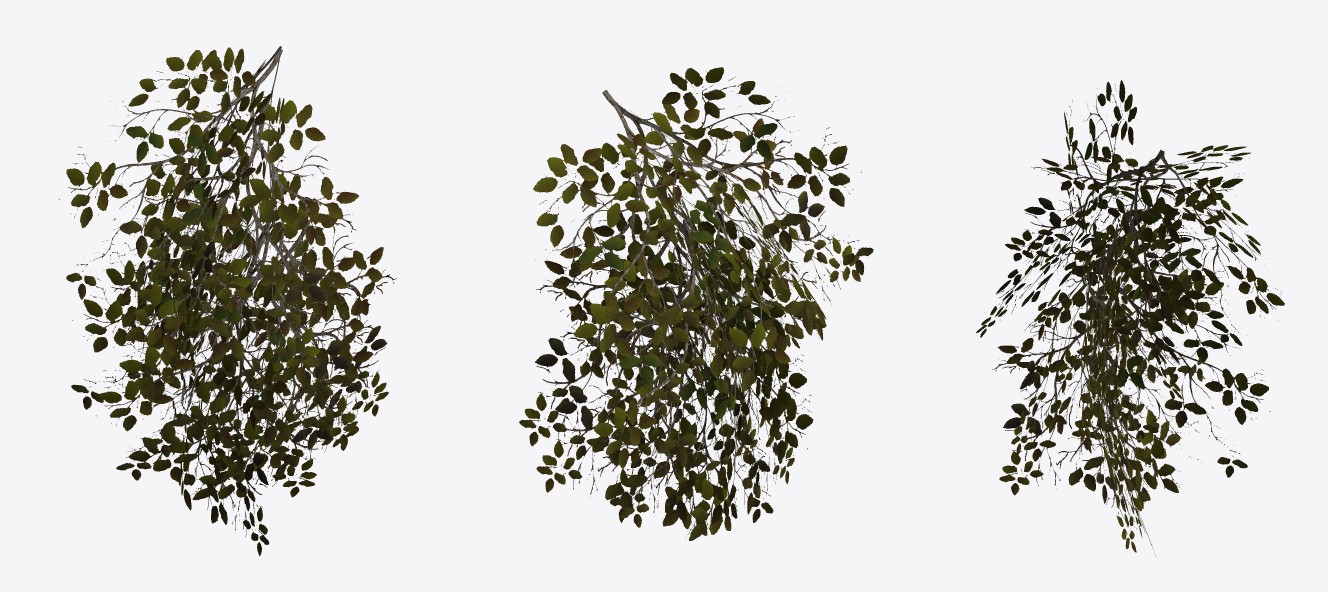
Rendered from rock_plants_003.obj.
3 renders of one model, left to right at view 1: azimuth 30°, elevation 25°; view 2: azimuth 150°, elevation 25°; view 3: azimuth 270°, elevation 25°, orthographic. The views are drawn at different scales.
Visible parts, largest first — view 1: rock_plants_003; view 2: rock_plants_003; view 3: rock_plants_003.
Boxes of the visible parts, x1,y1,x2,y2 form: rock_plants_003: [59, 46, 396, 555]; rock_plants_003: [519, 67, 873, 540]; rock_plants_003: [976, 80, 1284, 554].
Bounding box in the file's own units: 382 × 527 × 337.
1 material, 1 textured.
